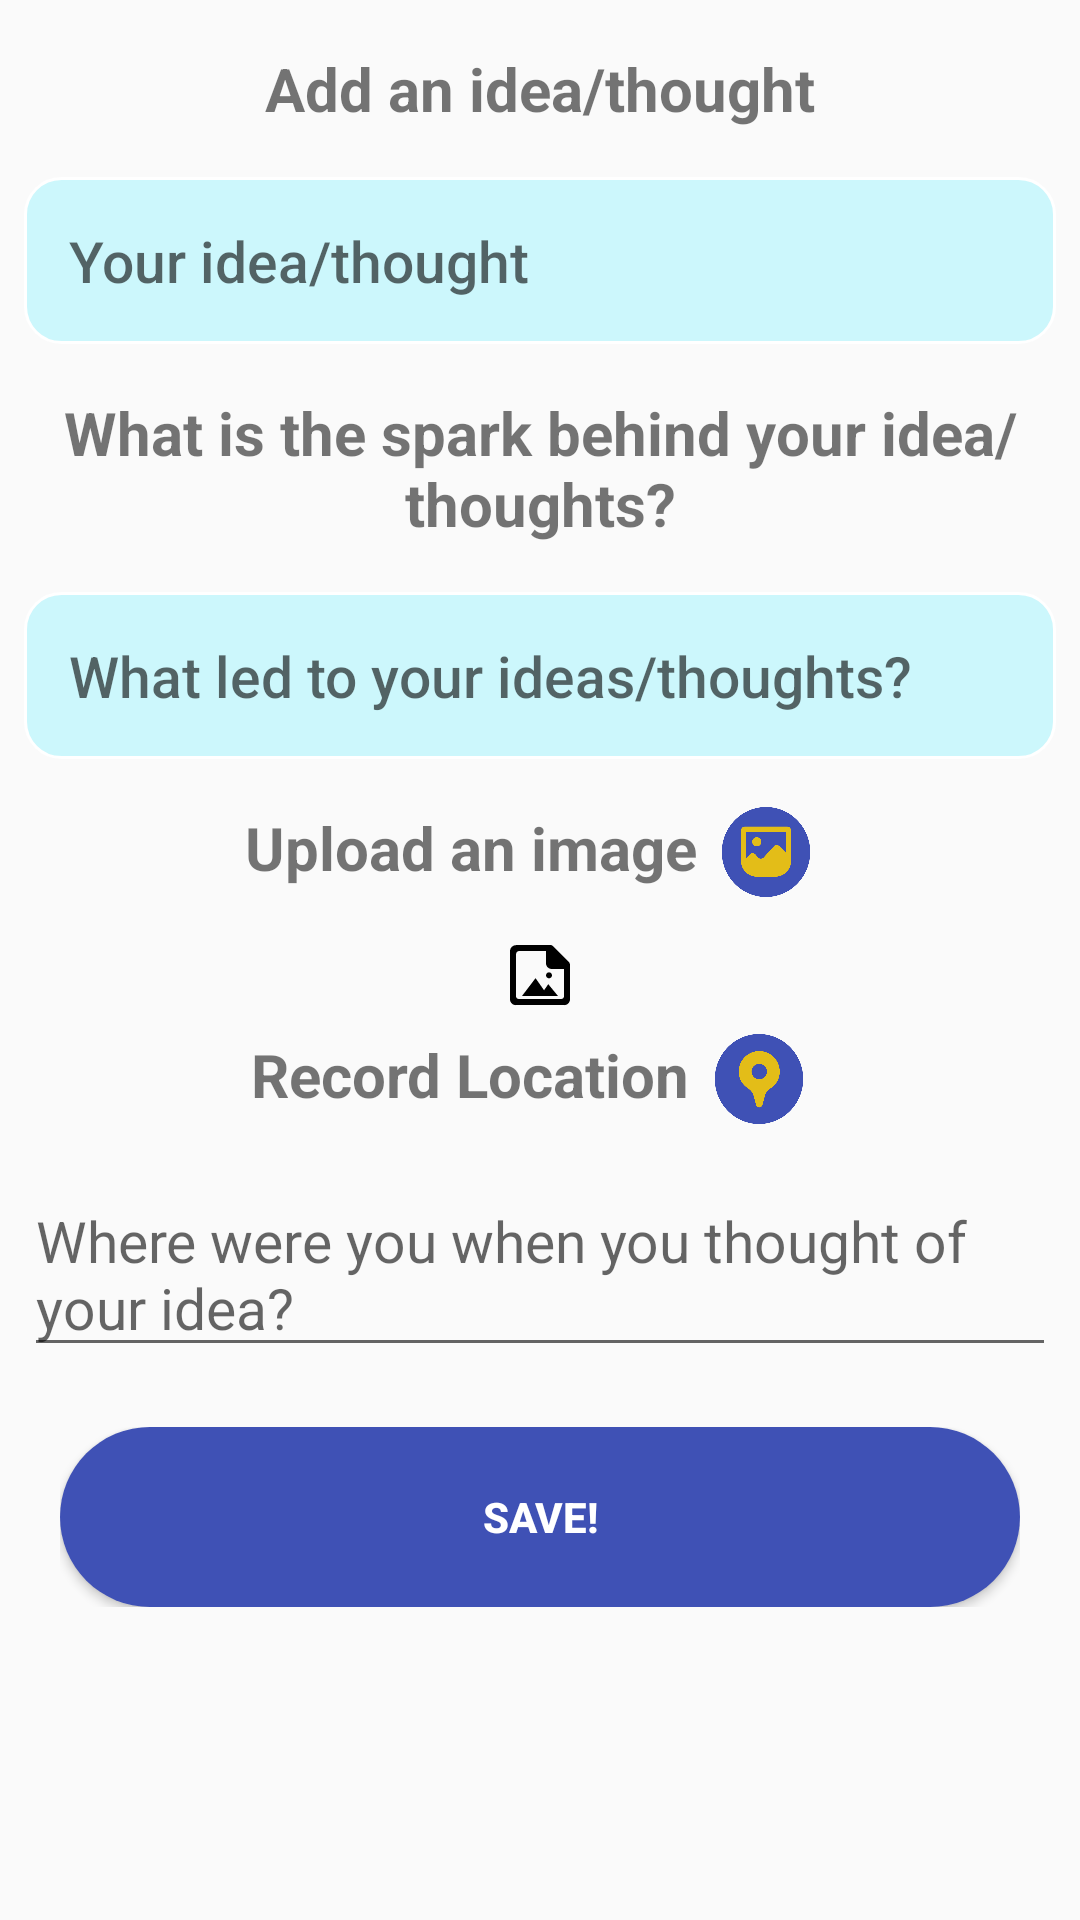

Icon bounding boxes for this 1080*1920 phone screenshot, format [x1=x1, y1=y1, x2=x2, y2=y2]:
galleryicon: [x1=722, y1=807, x2=810, y2=897]
imageplaceholder: [x1=510, y1=945, x2=570, y2=1005]
